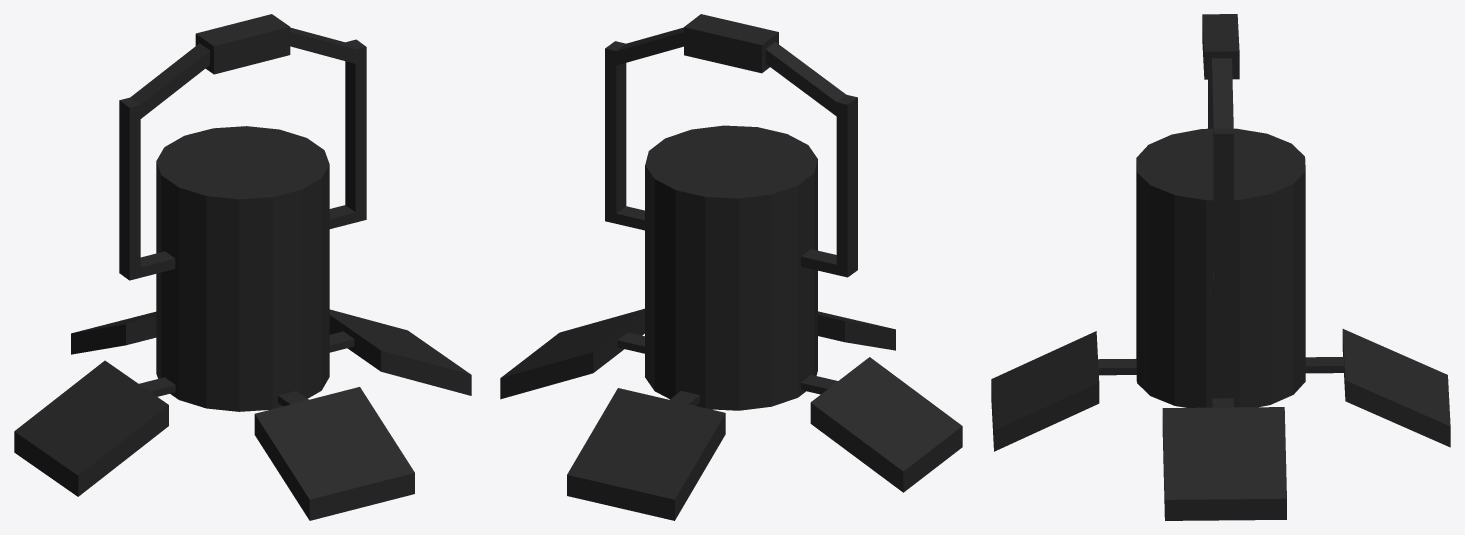
The model's file is Spot light.fbx.
3 renders of one model, left to right at view 1: azimuth 30°, elevation 25°; view 2: azimuth 150°, elevation 25°; view 3: azimuth 270°, elevation 25°, orthographic.
Visible parts, largest first — view 1: Spot Light; view 2: Spot Light; view 3: Spot Light.
Part boxes in pixels (x1,y1,x2,y2): Spot Light: (14, 14, 471, 520); Spot Light: (500, 14, 962, 520); Spot Light: (991, 14, 1450, 520).
Bounding box in the file's own units: 85.37 × 80.22 × 85.37.
